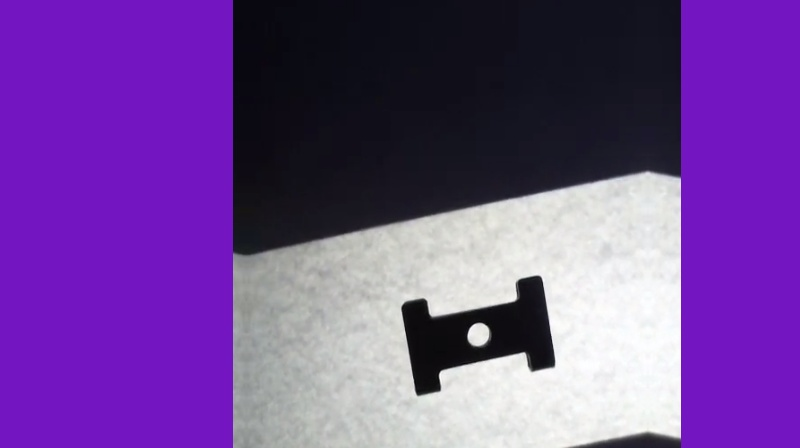O002: (399, 271, 557, 400)
